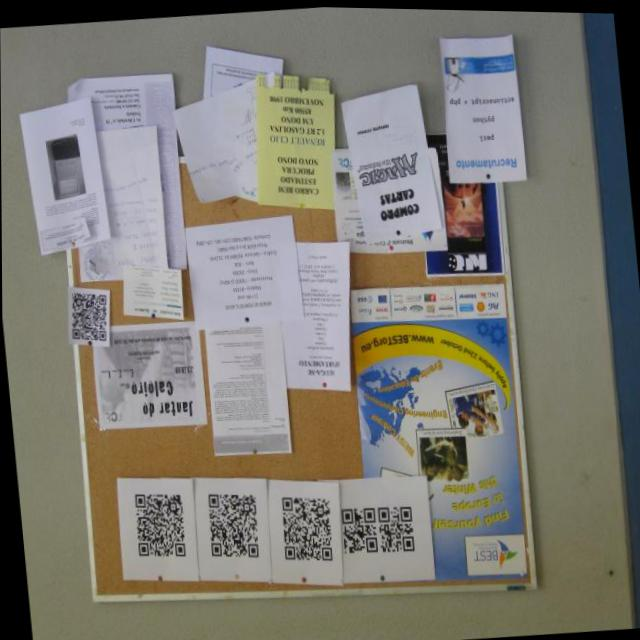qrcode: (278, 492, 334, 563), (205, 489, 260, 560), (132, 489, 186, 559), (67, 289, 109, 343), (375, 502, 414, 552), (339, 505, 377, 553)
